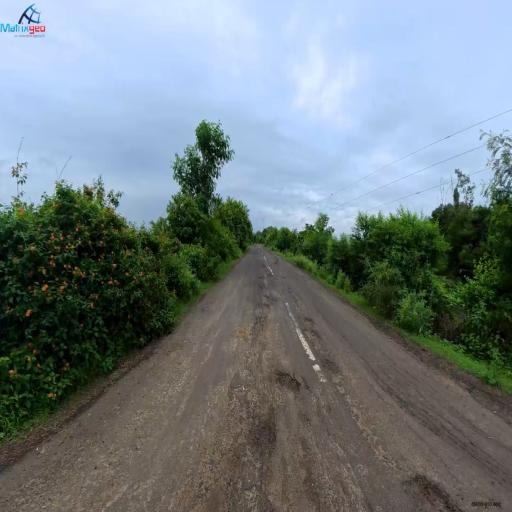pothole: (267, 361, 340, 390), (304, 312, 326, 350)
